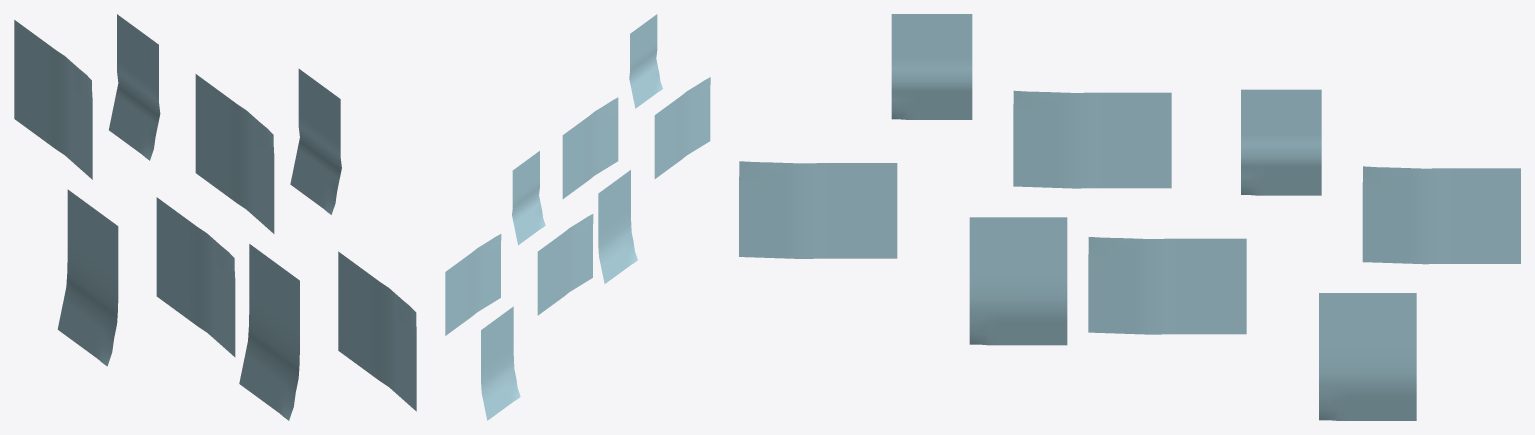
Rendered from paper.fbx.
3 renders of one model, left to right at view 1: azimuth 30°, elevation 25°; view 2: azimuth 150°, elevation 25°; view 3: azimuth 270°, elevation 25°, orthographic. The views are drawn at different scales.
Parts seen in each view (by area): view 1: Human.011, Human.004; view 2: Human.004, Human.011; view 3: Human.004, Human.011.
Part boxes in pixels (x1,y1,x2,y2): Human.011: (14,14,235,366); Human.004: (195,68,416,420); Human.004: (562,14,710,283); Human.011: (445,151,593,420); Human.004: (739,14,1171,345); Human.011: (1088,89,1520,420).
Bounding box in the file's own units: 4.55 × 151 × 261.
